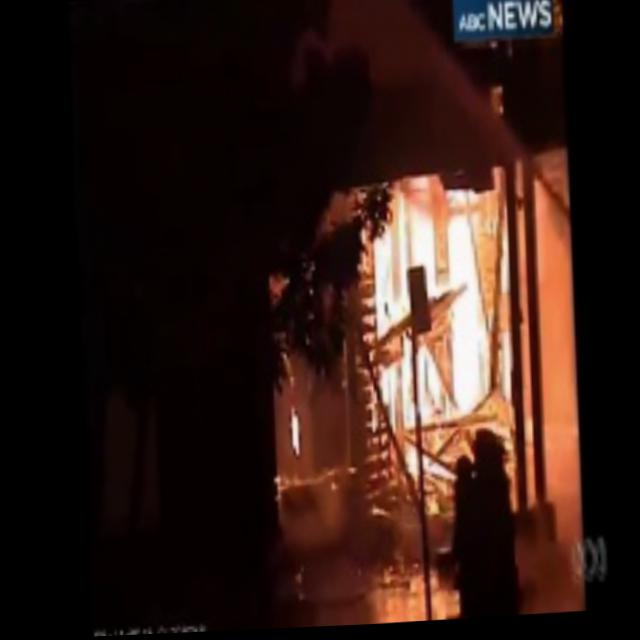fire: (449, 217, 483, 409), (405, 212, 435, 270), (375, 245, 394, 331)
